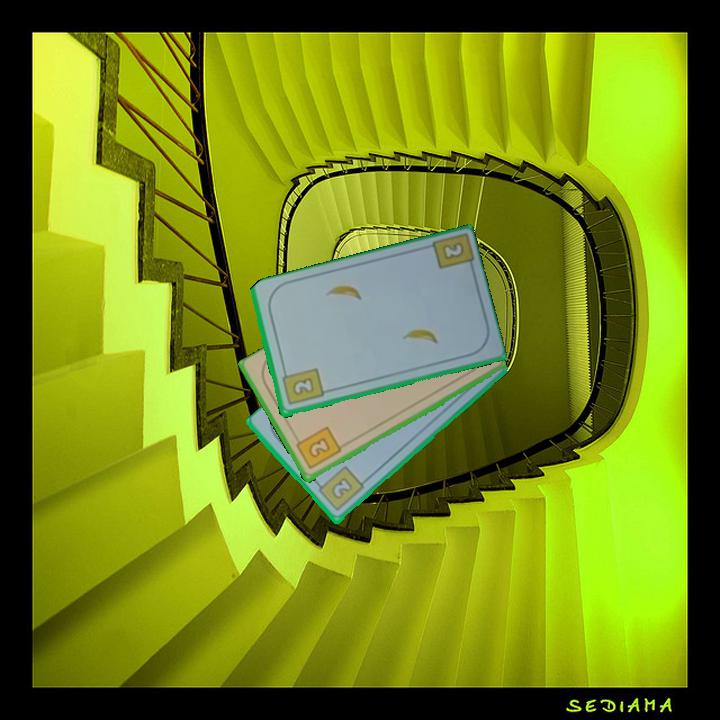2b: (312, 463, 367, 514), (291, 424, 344, 472), (278, 365, 326, 408), (438, 238, 467, 263)
